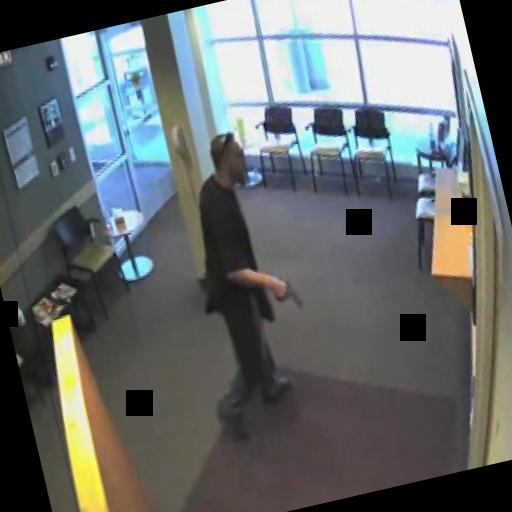Handgun: (269, 272, 300, 310)
